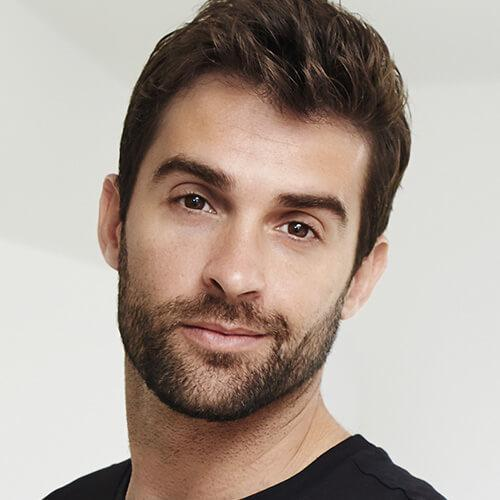Sober: (128, 110, 350, 378)
